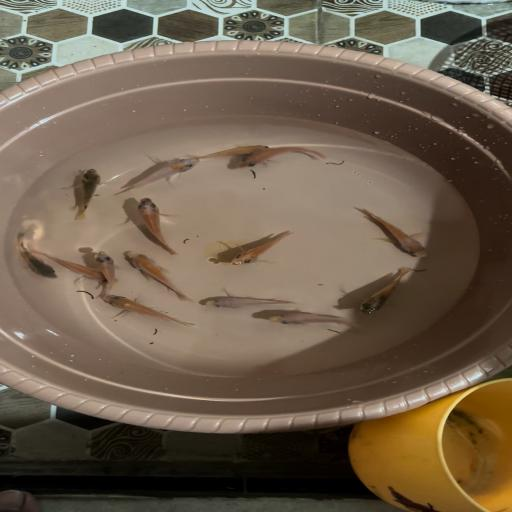nila: (346, 205, 440, 259), (119, 247, 196, 299), (124, 198, 194, 255), (214, 227, 299, 270), (96, 294, 196, 327), (354, 266, 416, 316), (40, 248, 116, 288), (118, 156, 200, 192), (238, 142, 327, 171), (9, 228, 60, 278), (254, 309, 359, 333), (70, 166, 112, 220), (196, 289, 294, 312), (196, 136, 268, 164), (90, 247, 121, 296)
